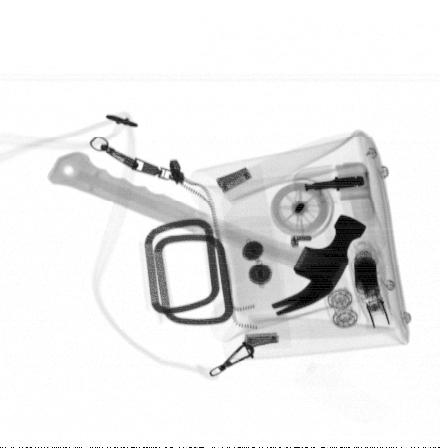Hammer: (47, 151, 368, 317)
